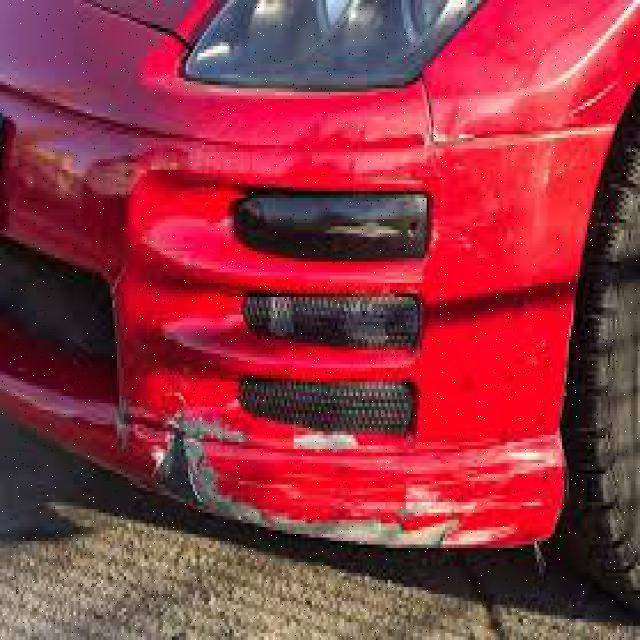front-bumper-dent: (0, 99, 629, 552)
